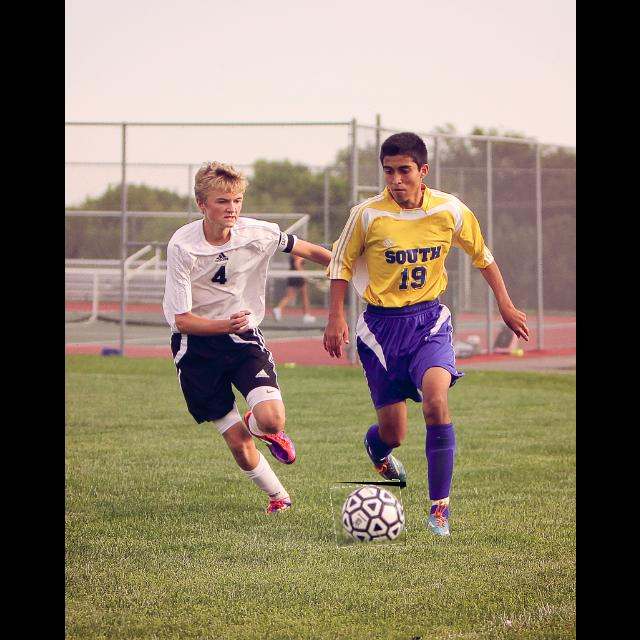Football: (332, 482, 406, 546)
